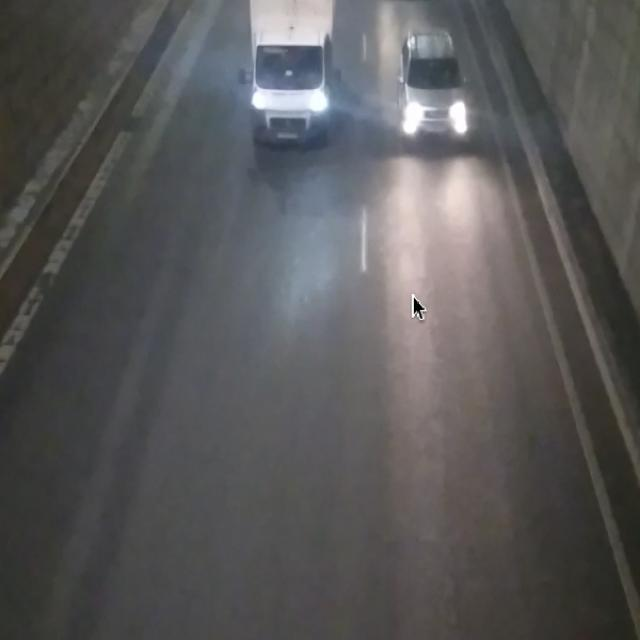truck: (238, 0, 341, 148)
